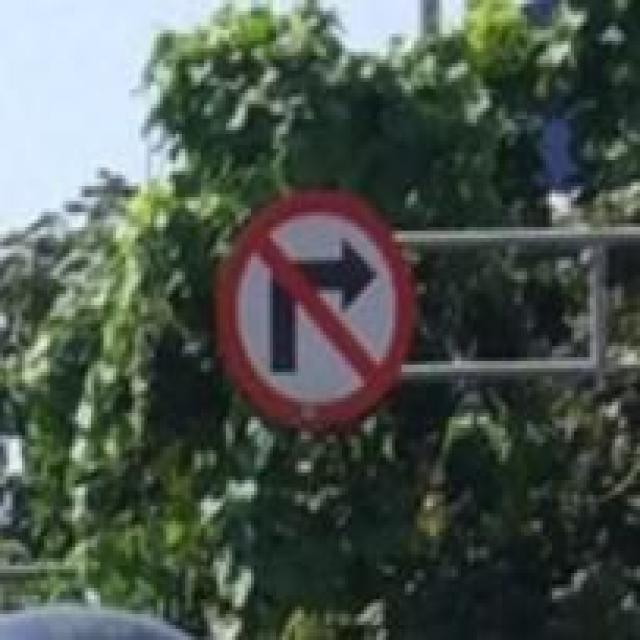traffic sign: (220, 194, 412, 432)
